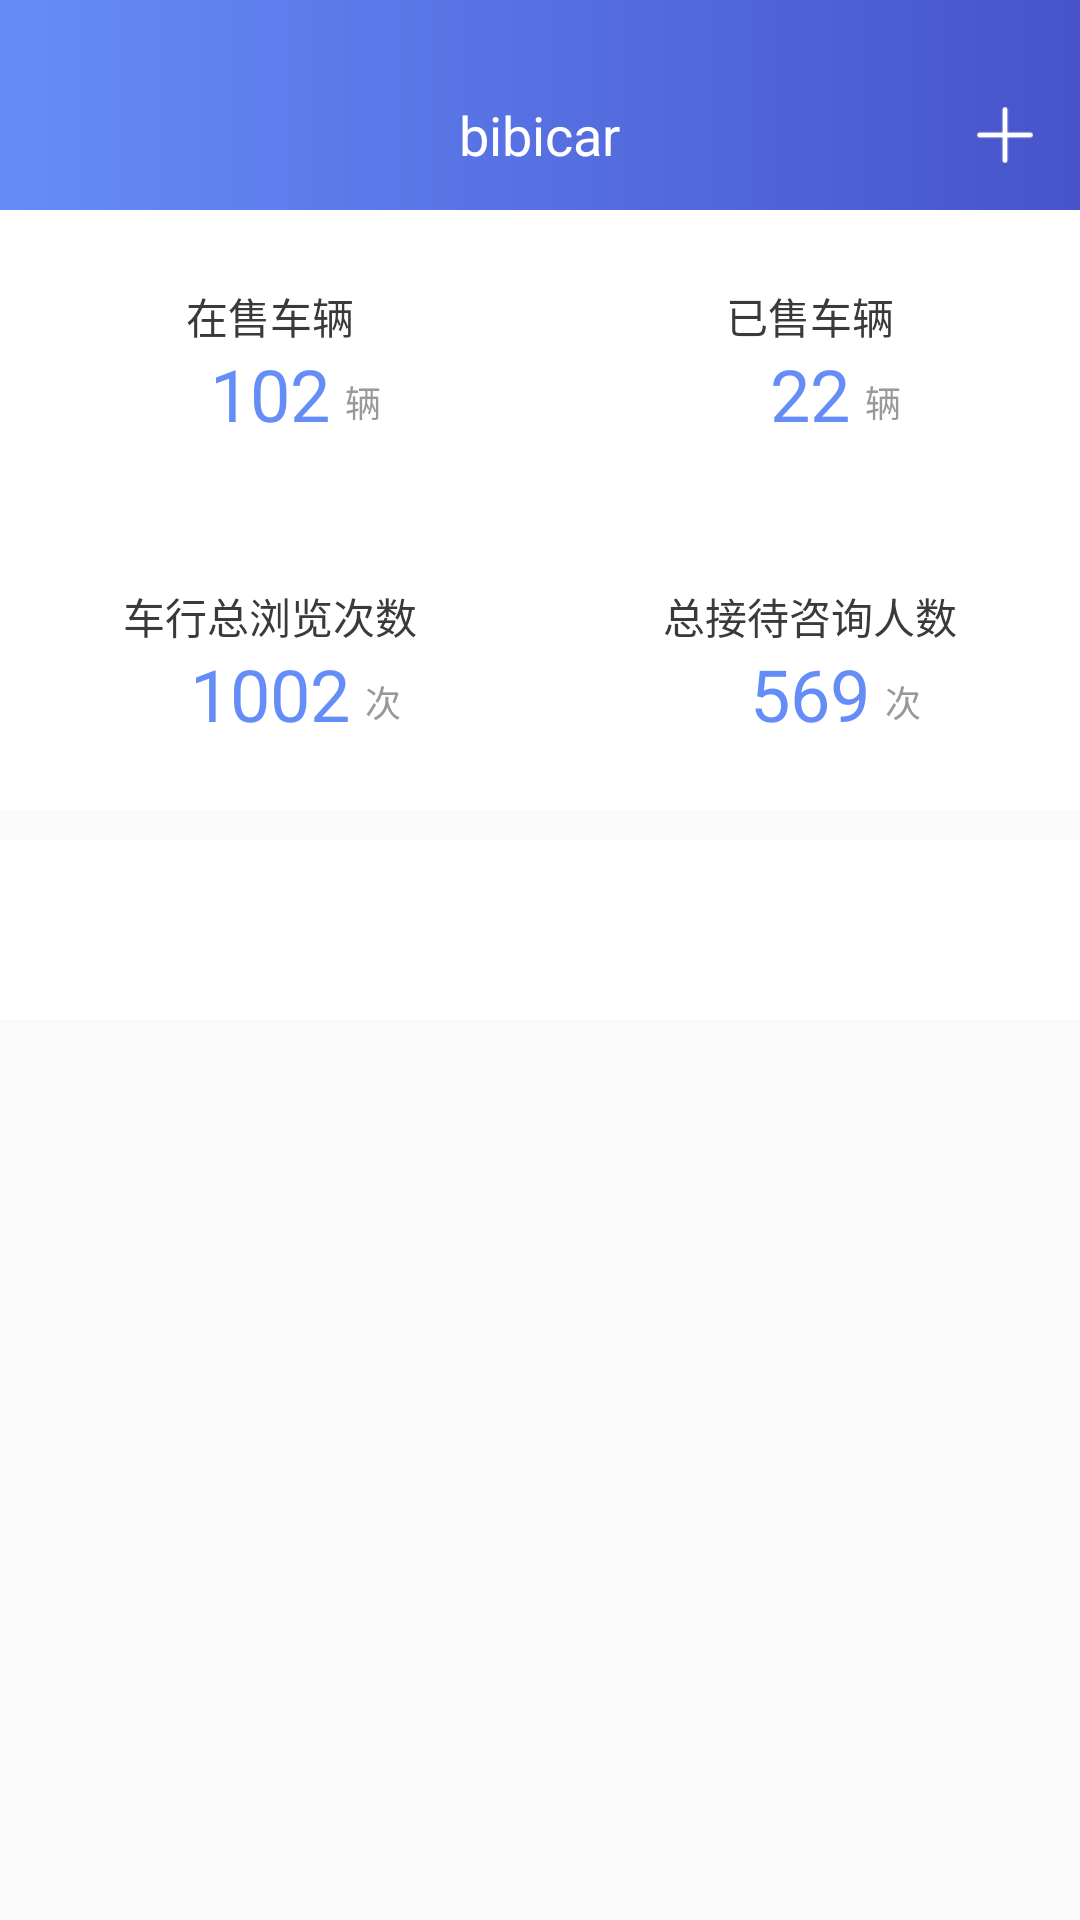

Icon bounding boxes for this 1080 × 1920 phone screenshot, format (x1, y1, x2, y2):
title bar add: (977, 107, 1033, 163)
